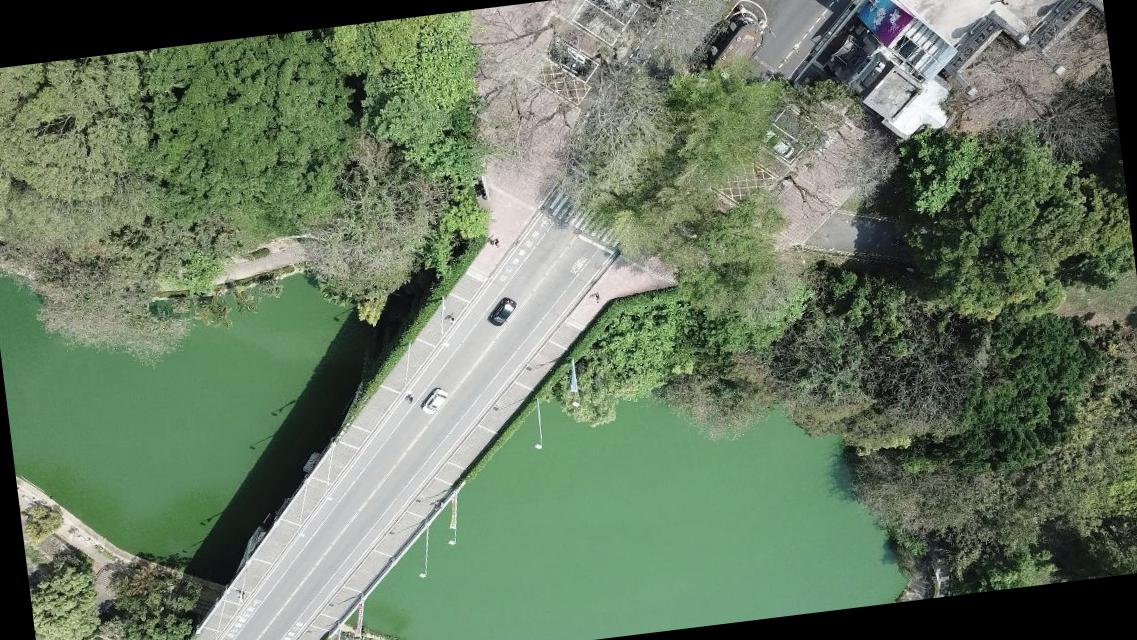vehicle: (549, 39, 591, 78), (759, 125, 796, 162), (485, 296, 518, 328), (597, 0, 637, 22), (418, 386, 449, 414)
